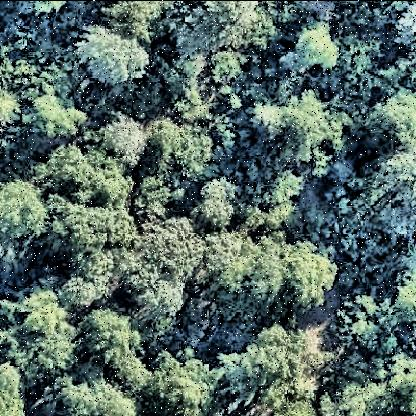tree-top: (202, 228, 342, 324), (125, 219, 201, 326), (250, 94, 351, 174), (12, 288, 85, 391), (249, 323, 327, 415), (138, 345, 214, 416), (77, 25, 155, 89), (55, 195, 127, 255), (147, 120, 217, 177), (342, 291, 402, 357), (189, 2, 266, 52), (23, 87, 87, 144), (41, 381, 141, 416), (4, 172, 48, 247), (78, 310, 135, 366), (97, 113, 151, 171), (361, 93, 415, 144), (45, 142, 95, 196), (136, 167, 184, 223), (338, 354, 384, 412), (372, 147, 416, 199), (291, 26, 342, 70), (215, 352, 259, 402), (200, 174, 237, 230), (391, 246, 416, 327), (265, 169, 315, 209), (383, 347, 416, 407), (1, 359, 33, 416), (206, 42, 249, 84), (110, 356, 151, 391), (397, 1, 416, 45)
